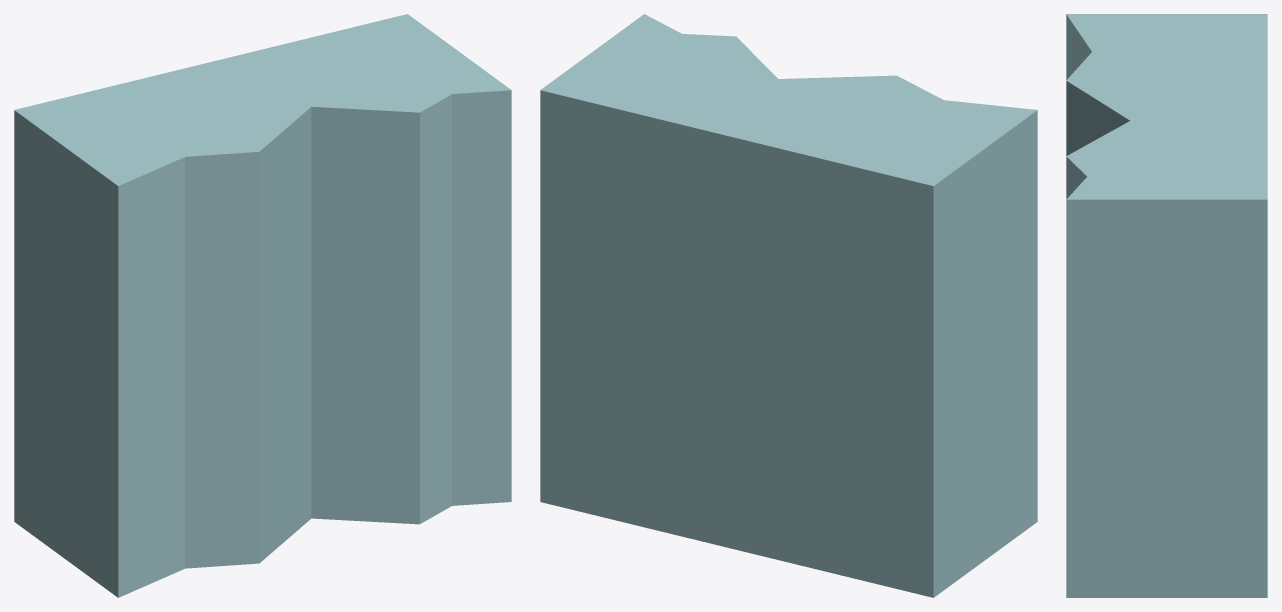
The model's file is cliffGrey.fbx.
3 views of the same model, side by side, from view 1: azimuth 30°, elevation 25°; view 2: azimuth 150°, elevation 25°; view 3: azimuth 270°, elevation 25° (orthographic). The views are drawn at different scales.
Visible parts, largest first — view 1: cliffGrey; view 2: cliffGrey; view 3: cliffGrey.
Part boxes in pixels (x1,y1,x2,y2): cliffGrey: [14, 14, 511, 597]; cliffGrey: [540, 14, 1037, 597]; cliffGrey: [1066, 14, 1267, 597].
Bounding box in the file's own units: 10 × 10 × 4.58.
